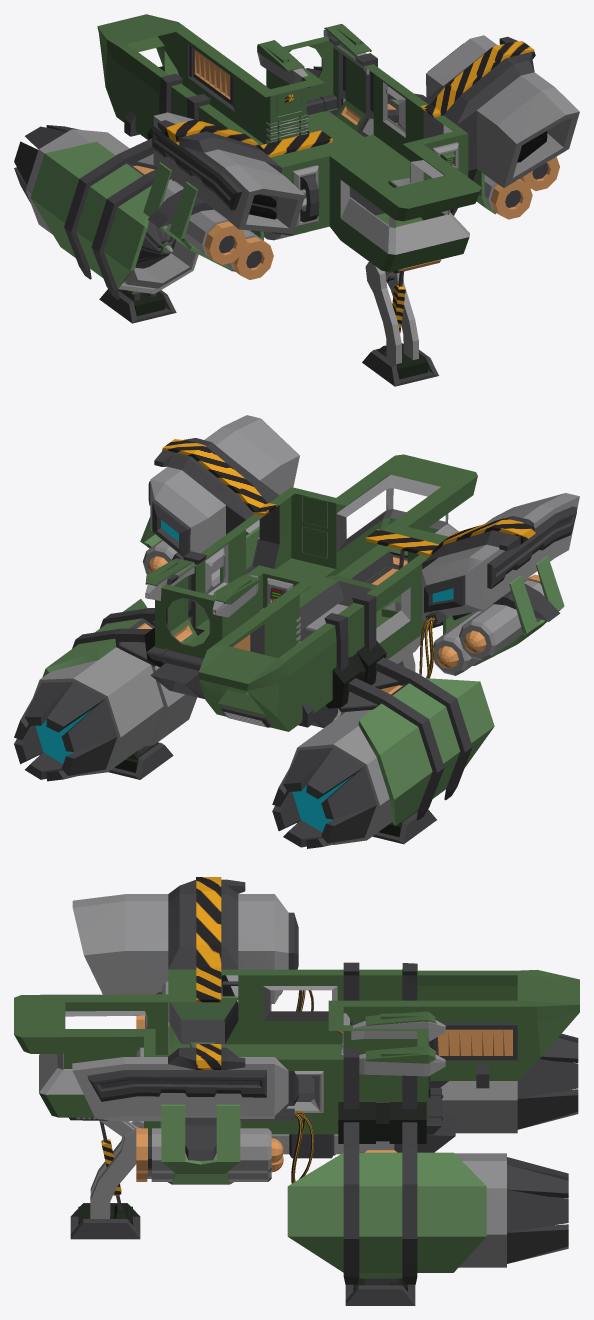
The model's file is ship_base.fbx.
The picture shows the model from 3 angles, top to bottom: view 1: azimuth 30°, elevation 25°; view 2: azimuth 150°, elevation 25°; view 3: azimuth 270°, elevation 25°; orthographic projection. The views are drawn at different scales.
Visible parts, largest first — view 1: polySurface157, polySurface225, polySurface180, pCube4, polySurface191, polySurface182, polySurface226, polySurface184, pCube29, pCube42, pCube50, pCube41 (+4 smaller); view 2: polySurface157, polySurface225, polySurface180, polySurface226, polySurface191, polySurface184, polySurface227, pCube48, pCube50, polySurface183, pCube51, polySurface182; view 3: polySurface157, polySurface225, polySurface190, polySurface183, polySurface226, polySurface182, polySurface227, pCube4, pCube42, pCube48, polySurface184, pCube51.
Boxes of the visible parts, x1=… form: polySurface157: x1=30, y1=14, x2=579, y2=301; polySurface225: x1=14, y1=66, x2=321, y2=288; polySurface180: x1=163, y1=180, x2=273, y2=279; pCube4: x1=365, y1=262, x2=418, y2=364; polySurface191: x1=152, y1=124, x2=242, y2=210; polySurface182: x1=484, y1=156, x2=559, y2=219; polySurface226: x1=257, y1=24, x2=371, y2=84; polySurface184: x1=143, y1=162, x2=263, y2=271; pCube29: x1=292, y1=165, x2=319, y2=227; pCube42: x1=362, y1=349, x2=438, y2=386; pCube50: x1=99, y1=289, x2=176, y2=323; pCube41: x1=372, y1=343, x2=427, y2=379; polySurface157: x1=42, y1=415, x2=579, y2=825; polySurface225: x1=14, y1=647, x2=392, y2=848; polySurface180: x1=433, y1=574, x2=544, y2=675; polySurface226: x1=145, y1=558, x2=261, y2=617; polySurface191: x1=487, y1=506, x2=577, y2=588; polySurface184: x1=443, y1=556, x2=564, y2=665; polySurface227: x1=144, y1=627, x2=386, y2=708; pCube48: x1=108, y1=742, x2=173, y2=779; pCube50: x1=372, y1=809, x2=436, y2=844; polySurface183: x1=140, y1=517, x2=259, y2=582; pCube51: x1=146, y1=646, x2=203, y2=670; polySurface182: x1=142, y1=540, x2=219, y2=586; polySurface157: x1=14, y1=877, x2=579, y2=1285; polySurface225: x1=335, y1=1033, x2=578, y2=1267; polySurface190: x1=87, y1=1070, x2=266, y2=1101; polySurface183: x1=160, y1=1104, x2=241, y2=1184; polySurface226: x1=351, y1=1011, x2=445, y2=1076; polySurface182: x1=136, y1=1128, x2=271, y2=1181; polySurface227: x1=338, y1=1102, x2=426, y2=1143; pCube4: x1=90, y1=1121, x2=143, y2=1218; pCube42: x1=70, y1=1203, x2=140, y2=1239; pCube48: x1=345, y1=1284, x2=415, y2=1305; polySurface184: x1=170, y1=996, x2=238, y2=1019; pCube51: x1=426, y1=1088, x2=443, y2=1134.
Size of the model in its own units: 3771 by 2236 by 4410.
